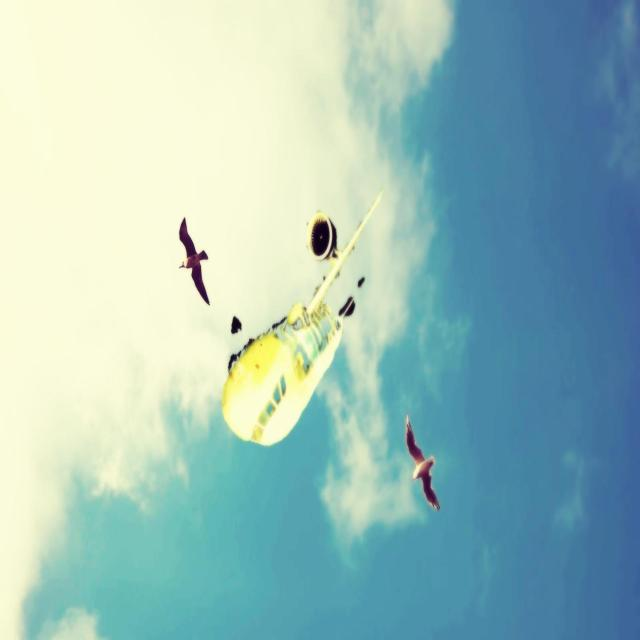airplane: (221, 186, 384, 446)
